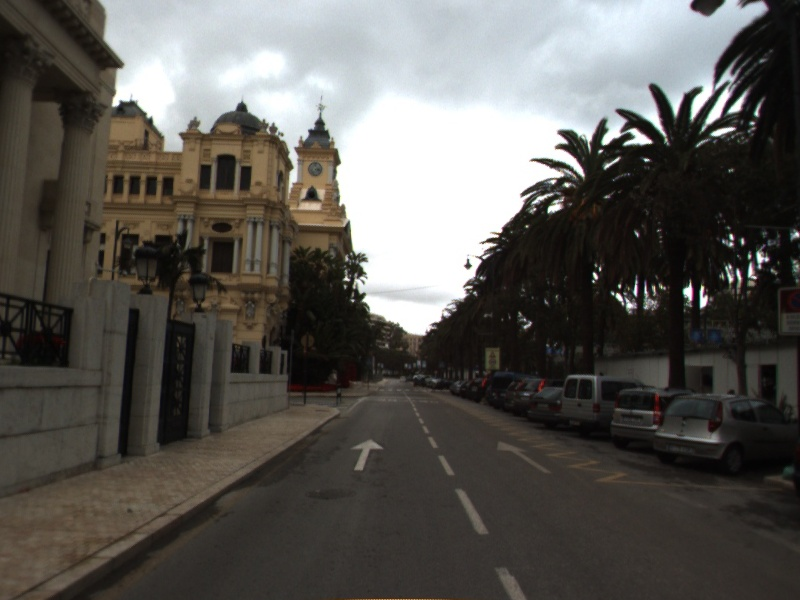STRAIGHT: (495, 439, 554, 476), (348, 437, 386, 472)
